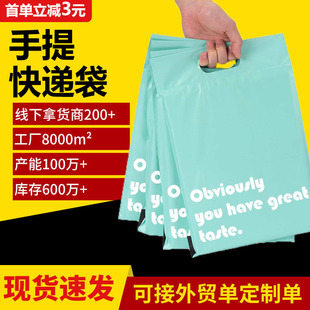Parcel: (119, 34, 309, 255)
